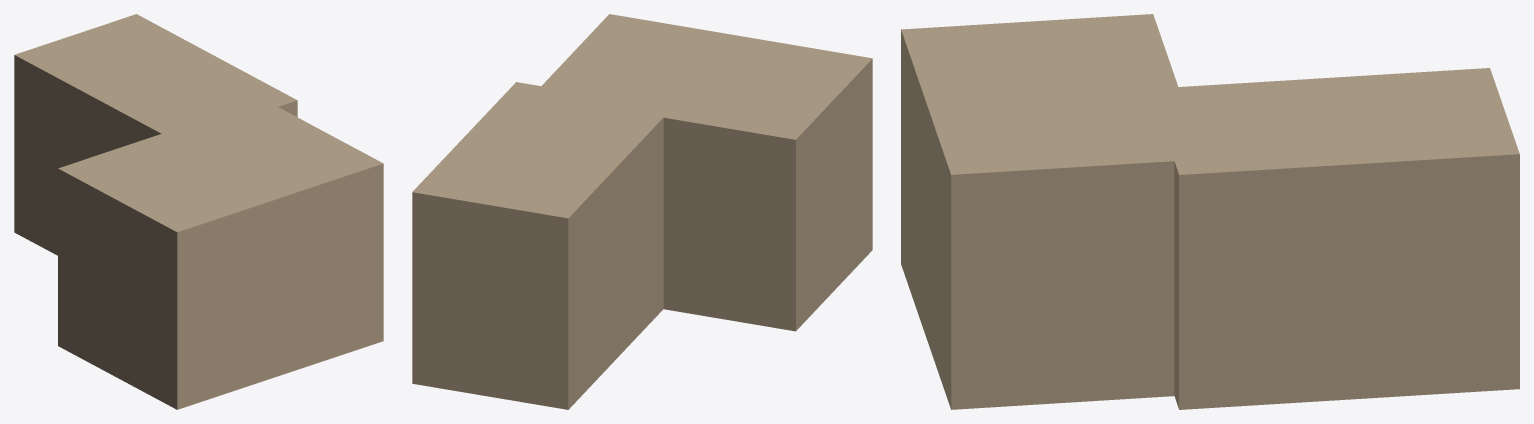
File: bld_107638970.dae
The picture shows the model from 3 angles, left to right: view 1: azimuth 30°, elevation 25°; view 2: azimuth 150°, elevation 25°; view 3: azimuth 270°, elevation 25°; orthographic projection. The views are drawn at different scales.
Visible parts, largest first — view 1: bld_107638970; view 2: bld_107638970; view 3: bld_107638970.
Part boxes in pixels (x1,y1,x2,y2): bld_107638970: (14,14,383,409); bld_107638970: (412,14,872,409); bld_107638970: (901,14,1519,409).
Bounding box in the file's own units: 11.76 × 19.09 × 8.
